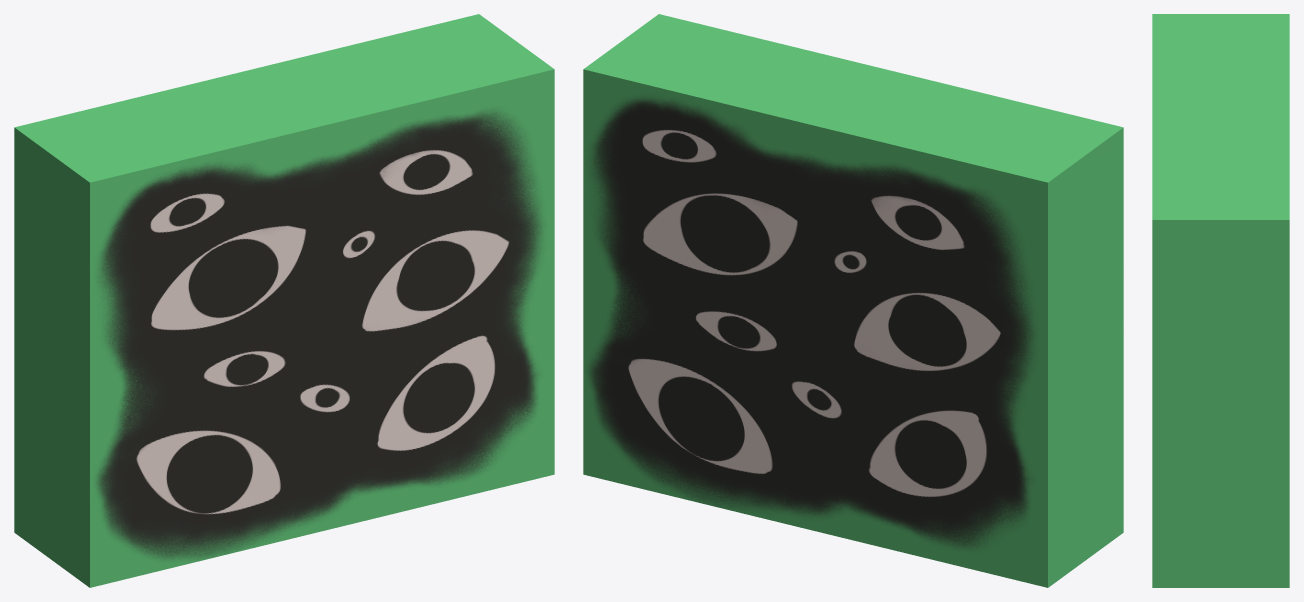
Rendered from Light_Wall_ThickSide.fbx.
The picture shows the model from 3 angles, left to right: view 1: azimuth 30°, elevation 25°; view 2: azimuth 150°, elevation 25°; view 3: azimuth 270°, elevation 25°; orthographic projection. The views are drawn at different scales.
Parts seen in each view (by area): view 1: Light_Wall_ThickSide; view 2: Light_Wall_ThickSide; view 3: Light_Wall_ThickSide.
Boxes of the visible parts, x1,y1,x2,y2 form: Light_Wall_ThickSide: (14, 14, 554, 587); Light_Wall_ThickSide: (583, 14, 1123, 587); Light_Wall_ThickSide: (1152, 14, 1289, 587).
Size of the model in its own units: 180 by 150 by 50.7.
Materials: 1 (1 with a texture image).
